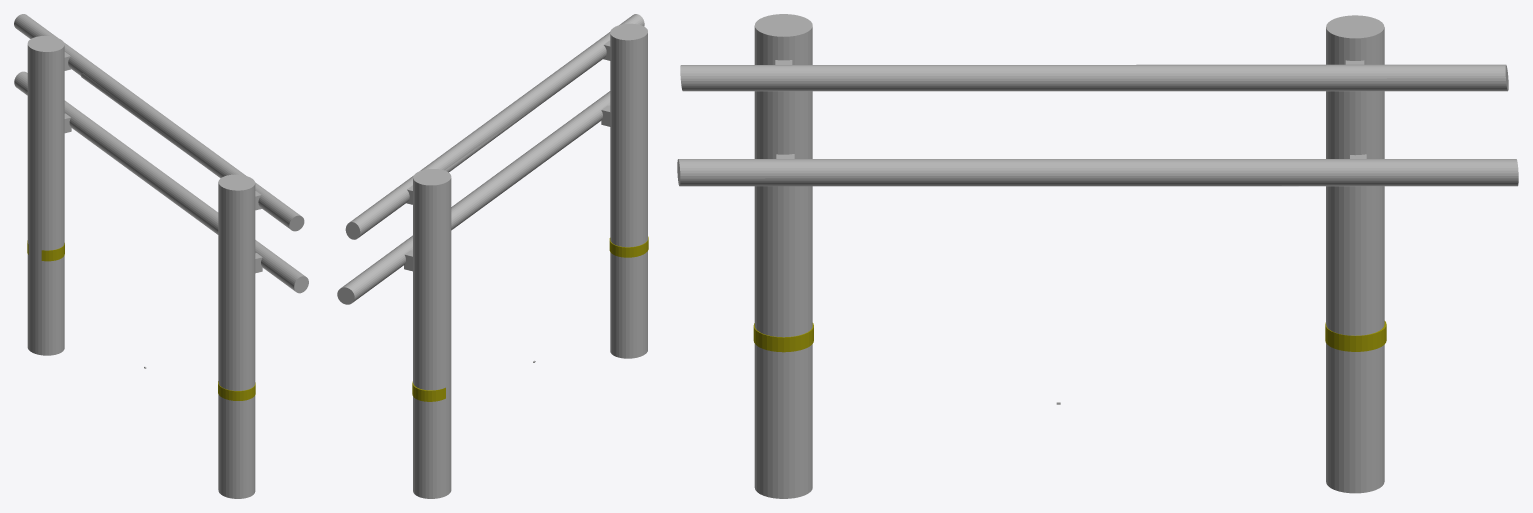
The model's file is guardrail.obj.
3 views of the same model, side by side, from view 1: azimuth 30°, elevation 25°; view 2: azimuth 150°, elevation 25°; view 3: azimuth 270°, elevation 25° (orthographic). The views are drawn at different scales.
Visible parts, largest first — view 1: Cube; view 2: Cube; view 3: Cube.
Boxes of the visible parts, x1,y1,x2,y2 form: Cube: (14,14,308,498); Cube: (337,14,648,498); Cube: (677,14,1518,498).
Size of the model in its own units: 0.6518 by 3.58 by 5.9.
